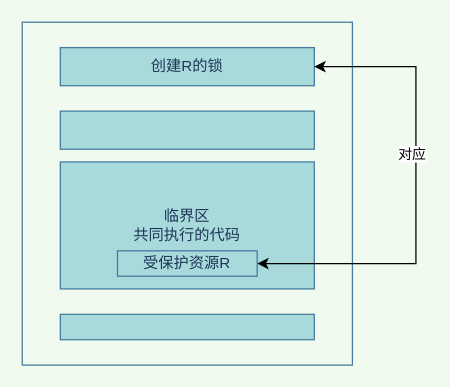
Some shapes in this 450 by 387 pixel diagram are drawn without their labels. The shapes that lost their labels are listed below. From the top down, each one's centre as x and y in pixels, then its label:
point (186, 129): 加R的锁
point (186, 326): 释放R的锁
